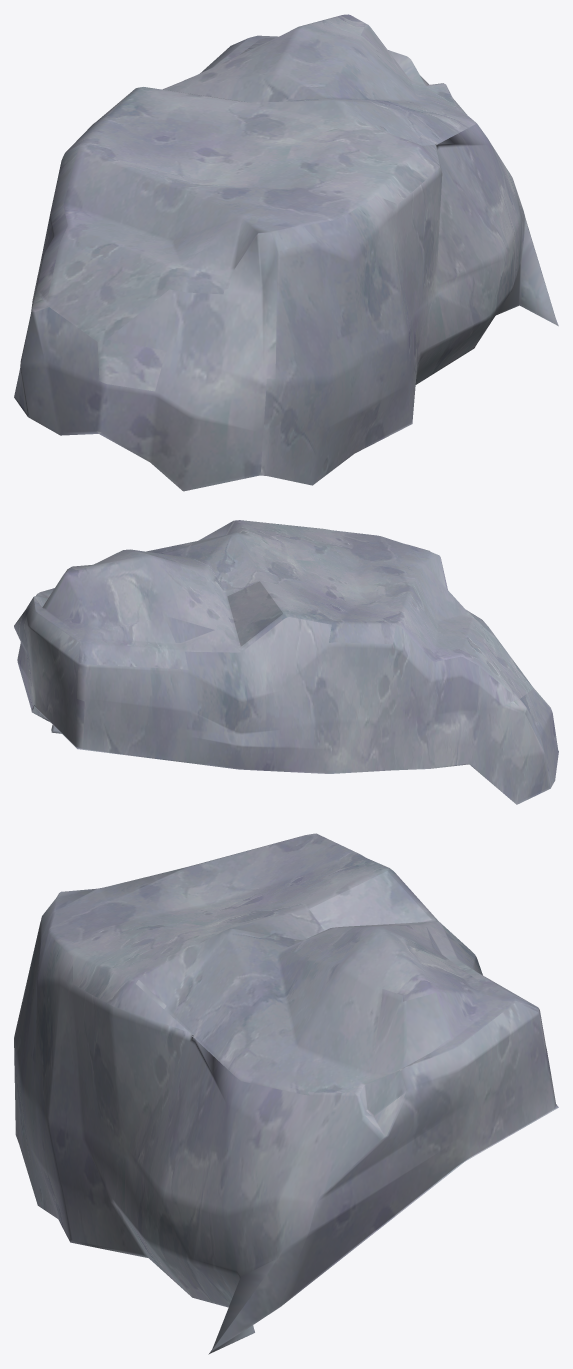
Rendered from rock1.fbx.
The picture shows the model from 3 angles, top to bottom: view 1: azimuth 30°, elevation 25°; view 2: azimuth 150°, elevation 25°; view 3: azimuth 270°, elevation 25°; orthographic projection. The views are drawn at different scales.
Parts seen in each view (by area): view 1: Plane19; view 2: Plane19; view 3: Plane19.
Boxes of the visible parts, bbox=[...] form: Plane19: bbox=[14, 14, 558, 491]; Plane19: bbox=[14, 520, 558, 804]; Plane19: bbox=[14, 833, 558, 1354].
Bounding box in the file's own units: 17.14 × 9.44 × 13.16.
